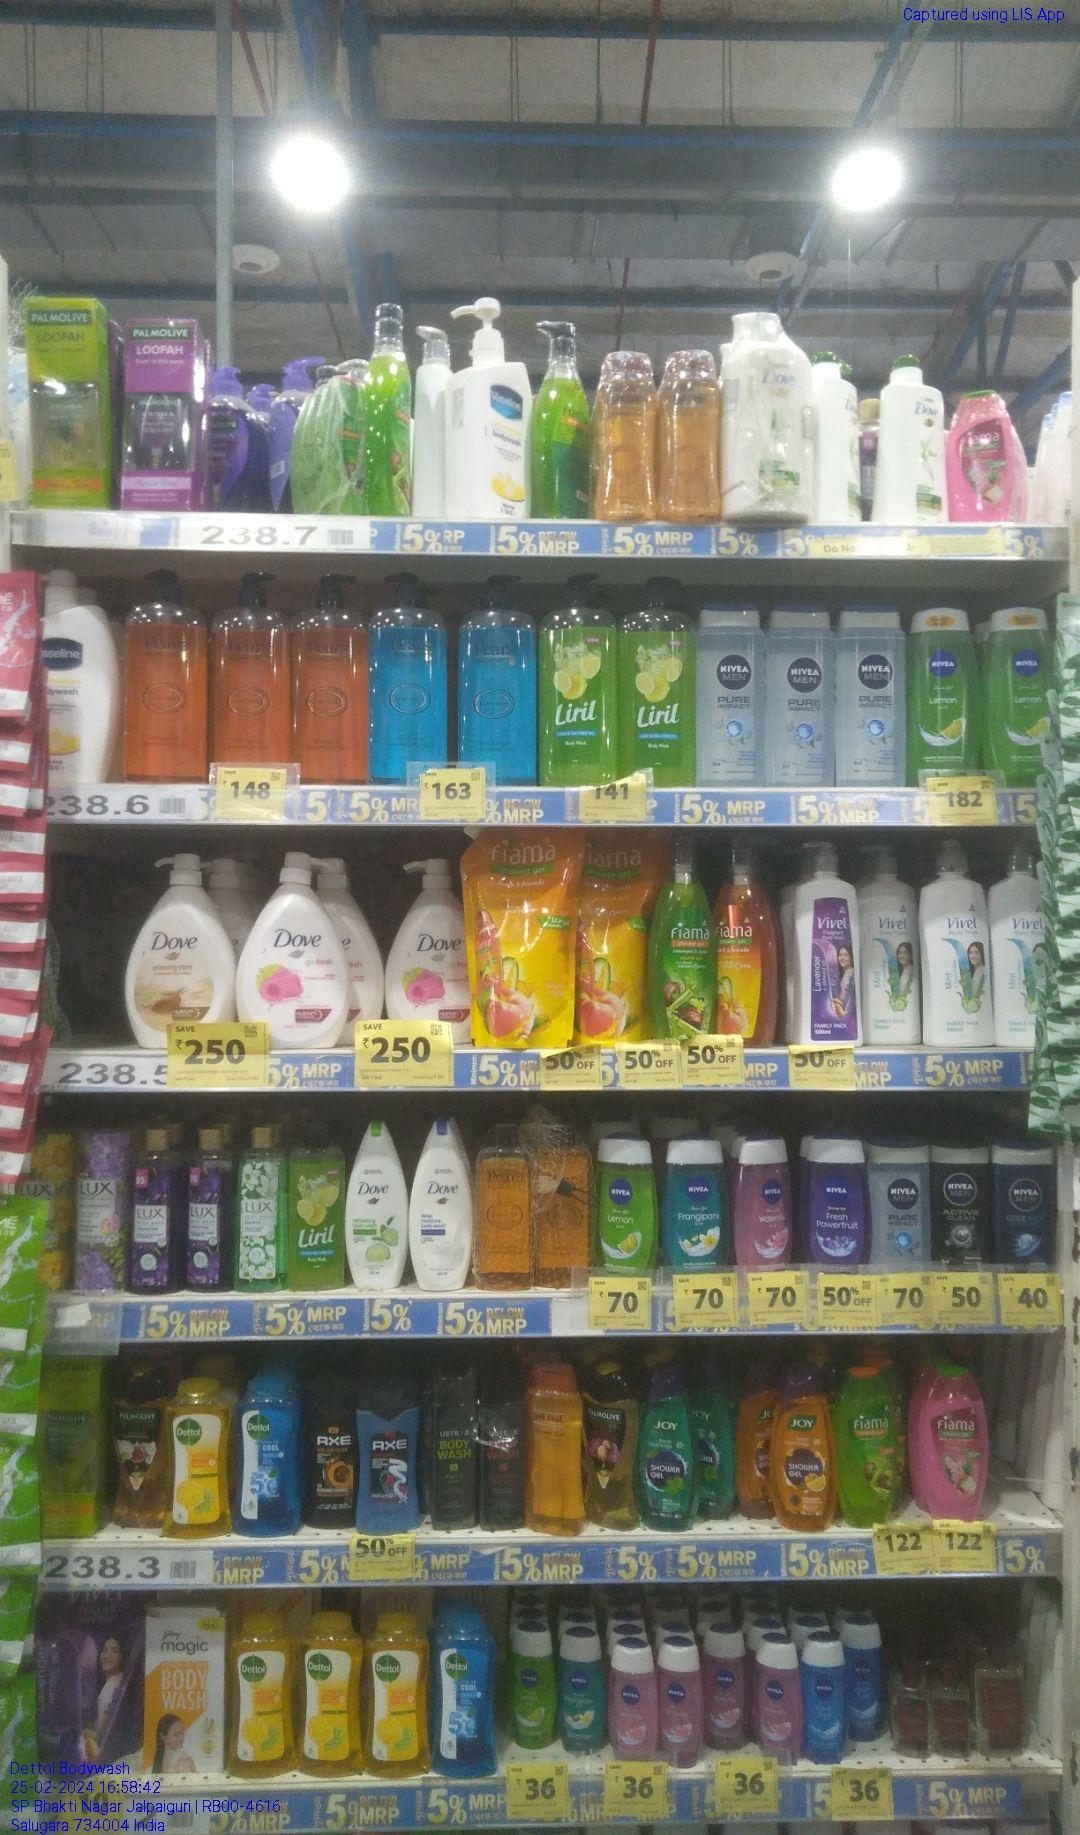Dettol_Bodywash_Cool: (433, 1608, 501, 1778), (238, 1381, 301, 1536)
Dettol_Bodywash_Refresh: (369, 1613, 429, 1777), (171, 1381, 234, 1537), (300, 1615, 360, 1776), (233, 1615, 293, 1775)
Dove_Deep_Moisture_Body_Wash_250ML: (410, 1118, 472, 1291)
Dove_Refreshing_Body_Wash_250ML: (347, 1124, 408, 1289)
Fiama_Shower_Gel_Lemongrass_and_Jojoba_250ML: (838, 1365, 899, 1524)
Fiama_Shower_Gel_Patchouli_and_Macadamia_250ML: (913, 1365, 986, 1524), (950, 389, 1013, 522)
Get_Real_Shower_Gel_Moisturising_Glycerin_300ML: (527, 1360, 582, 1536)
Joy_Shower_Gel_Mandarin_and_Lemongrass_250ML: (777, 1376, 834, 1533)
Joy_Shower_Gel_Mint_and_Eucalyptus_250ML: (644, 1380, 696, 1530), (698, 1372, 732, 1524)
Liril_Lime_and_Tea_Tree_Oil_Body_Wash_250ML: (288, 1124, 345, 1288)
Lux_Black_Orchid_Scent_and_Juniper_Oil_Body_Wash_245ML: (131, 1126, 176, 1295), (185, 1126, 226, 1290)
Lux_Body_Wash_Skin_Detox_Freesia_Scent_and_Alove_Vera_245ML: (238, 1124, 284, 1290)
Nivea_Shower_Gel_Lemon_and_Oil_250ML: (908, 607, 978, 786), (990, 605, 1056, 786)
Palmolive_Luminous_Oils_Invigorating_Macadamia_Oil_With_Peony_250ML: (588, 1367, 640, 1529)
Palmolive_Luminous_Oils_With_White_Orchid_Shower_Gel_250ML: (111, 1370, 168, 1516)
